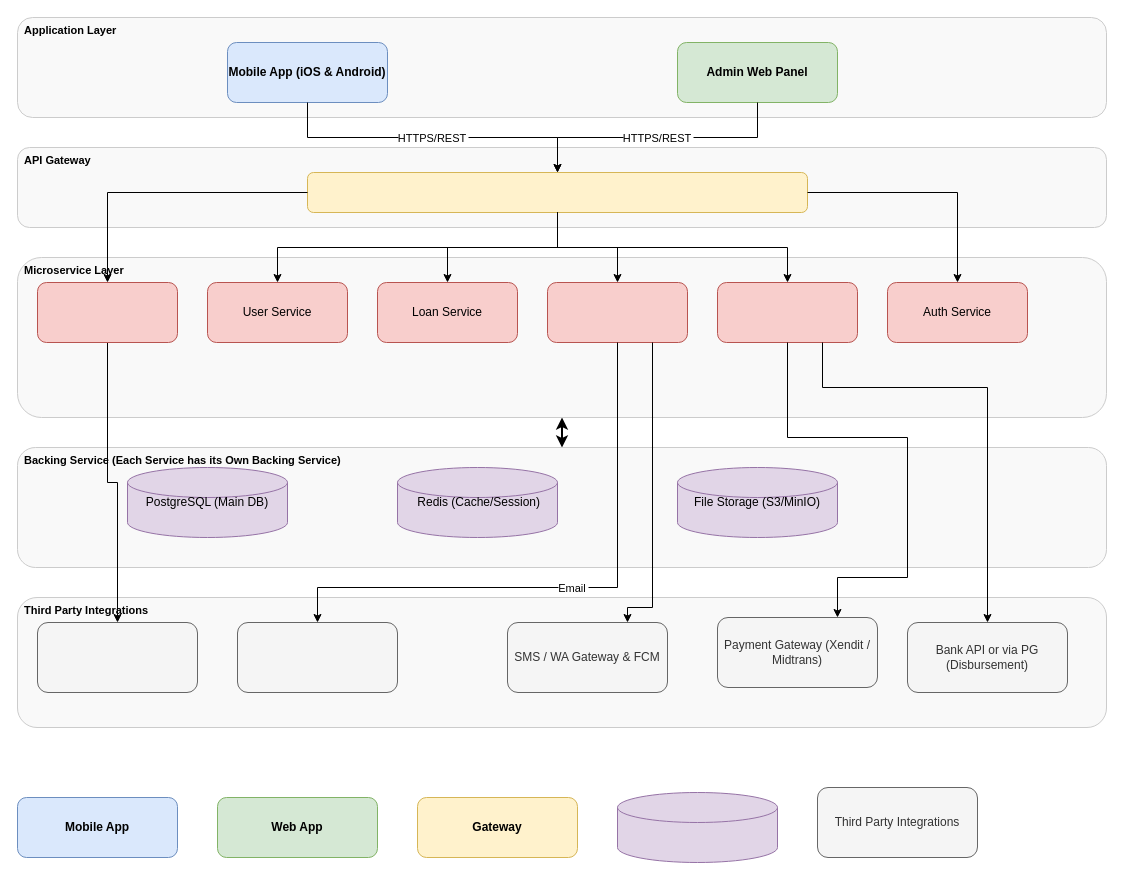
Image size: 1124x880. Some labels were removed from this diagram. The shapes that lost their labels are listed below. From the top down, each one's centre as x and y in pixels, then its label:
At pixel 557 192: "API Gateway (Load Balancer + Rate Limiting + Auth)".
At pixel 107 312: "Risk Scoring Service".
At pixel 617 312: "Notification Service".
At pixel 787 312: "Payment Service".
At pixel 117 657: "Credit Bureau (BI Checking / SLIK)".
At pixel 317 657: "Email Provider (SendGrid / SES)".
At pixel 697 827: "Backing Service".
